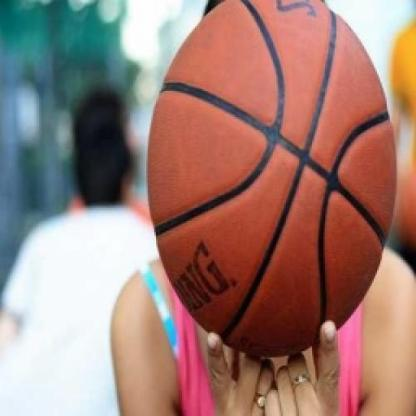basketball: (142, 0, 401, 356)
